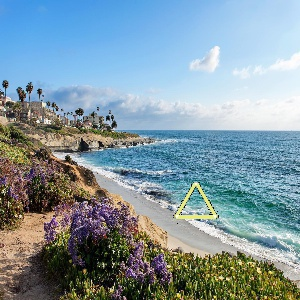triangle: (171, 180, 223, 222)
